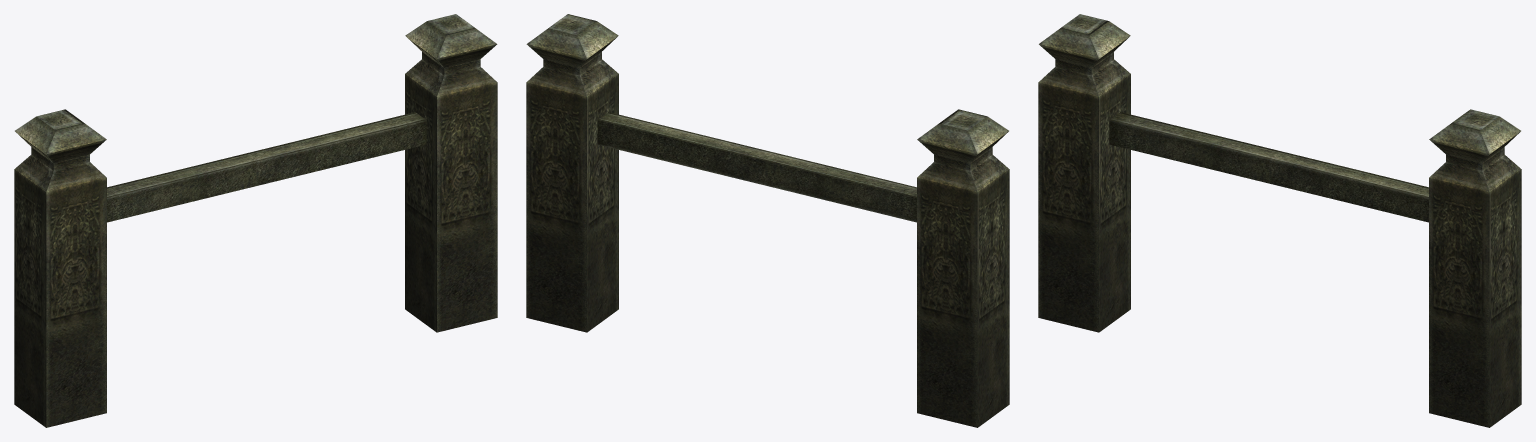
The model's file is ob_stone_fence_a.glb.
3 views of the same model, side by side, from view 1: azimuth 30°, elevation 25°; view 2: azimuth 150°, elevation 25°; view 3: azimuth 330°, elevation 25° (orthographic).
Parts seen in each view (by area): view 1: Object01; view 2: Object01; view 3: Object01.
Part boxes in pixels (box(x1,y1,x2,y2)): Object01: box(14, 14, 497, 427); Object01: box(526, 14, 1009, 427); Object01: box(1038, 14, 1521, 427).
Size of the model in its own units: 4.7 by 2.87 by 0.5739.
Materials: 1 (1 with a texture image).
